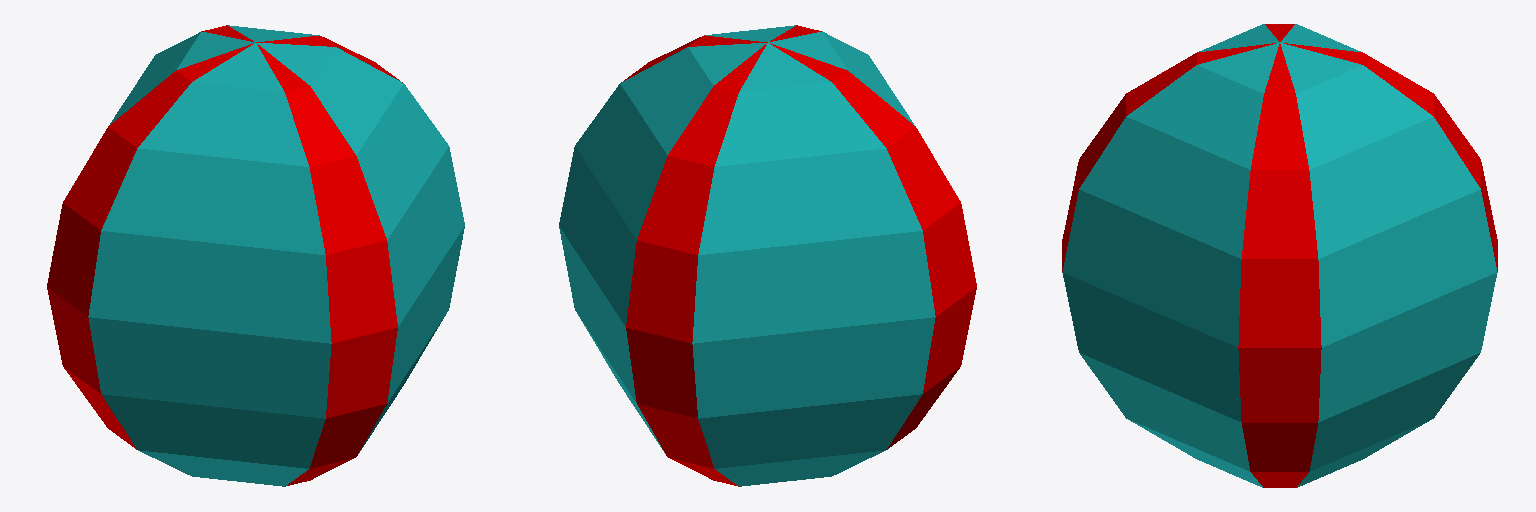
The model's file is ship7.obj.
3 views of the same model, side by side, from view 1: azimuth 30°, elevation 25°; view 2: azimuth 150°, elevation 25°; view 3: azimuth 270°, elevation 25° (orthographic).
Parts seen in each view (by area): view 1: ship7_sphere.004; view 2: ship7_sphere.004; view 3: ship7_sphere.004.
Part boxes in pixels (x1,y1,x2,y2): ship7_sphere.004: (47,25,464,486); ship7_sphere.004: (559,25,976,486); ship7_sphere.004: (1062,24,1497,487).
Bounding box in the file's own units: 1.85 × 2 × 1.85.